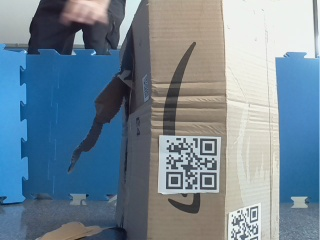caja_rota: (108, 8, 275, 240)
